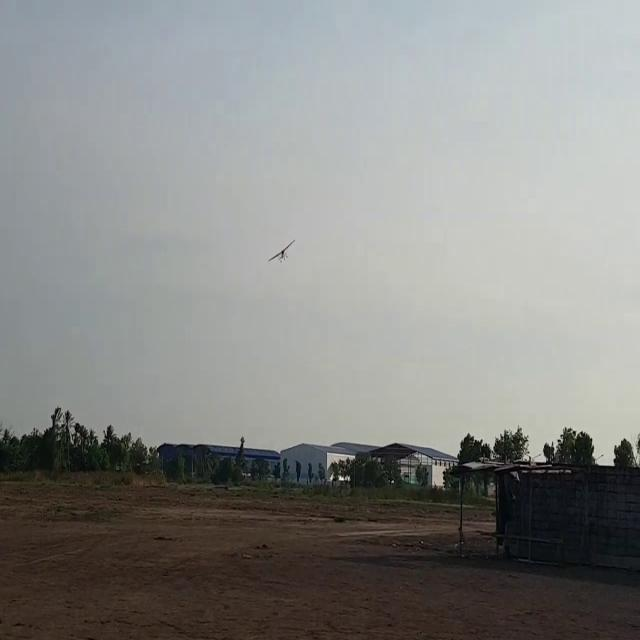iha: (269, 236, 295, 264)
